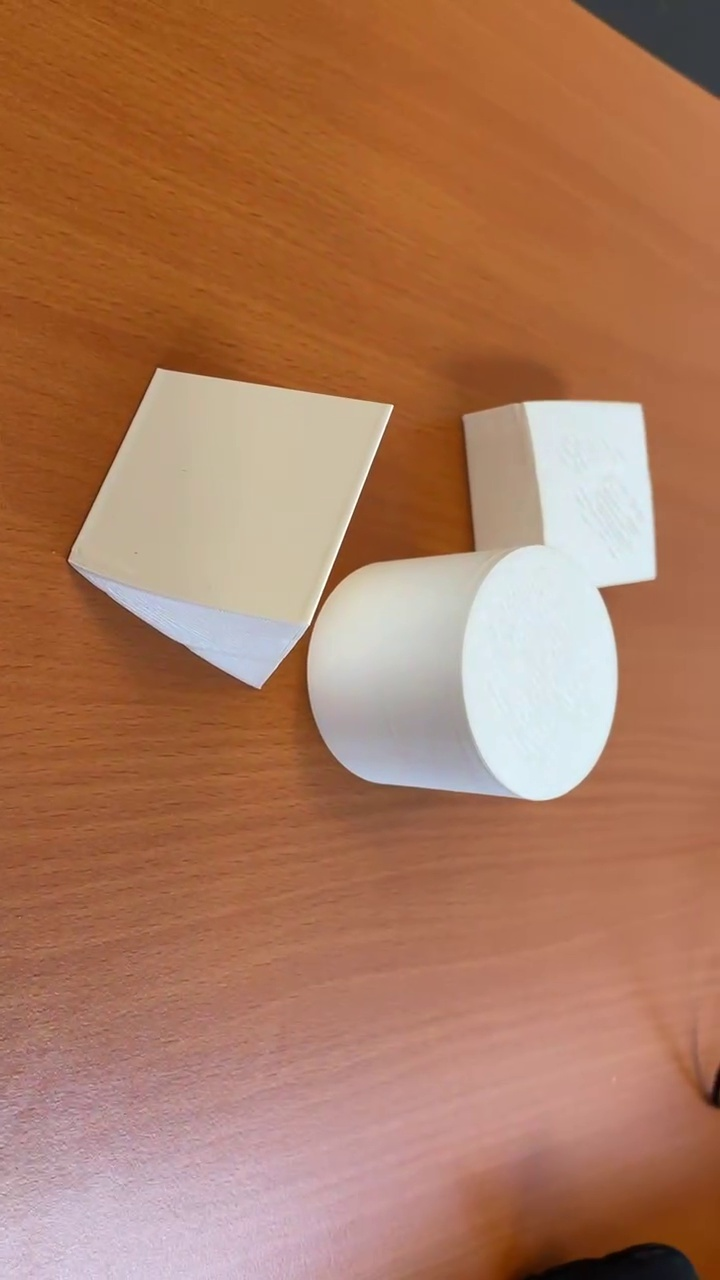Cube_short: (465, 392, 657, 593)
Cylinder: (304, 545, 617, 800)
Triangle: (57, 367, 396, 694)
